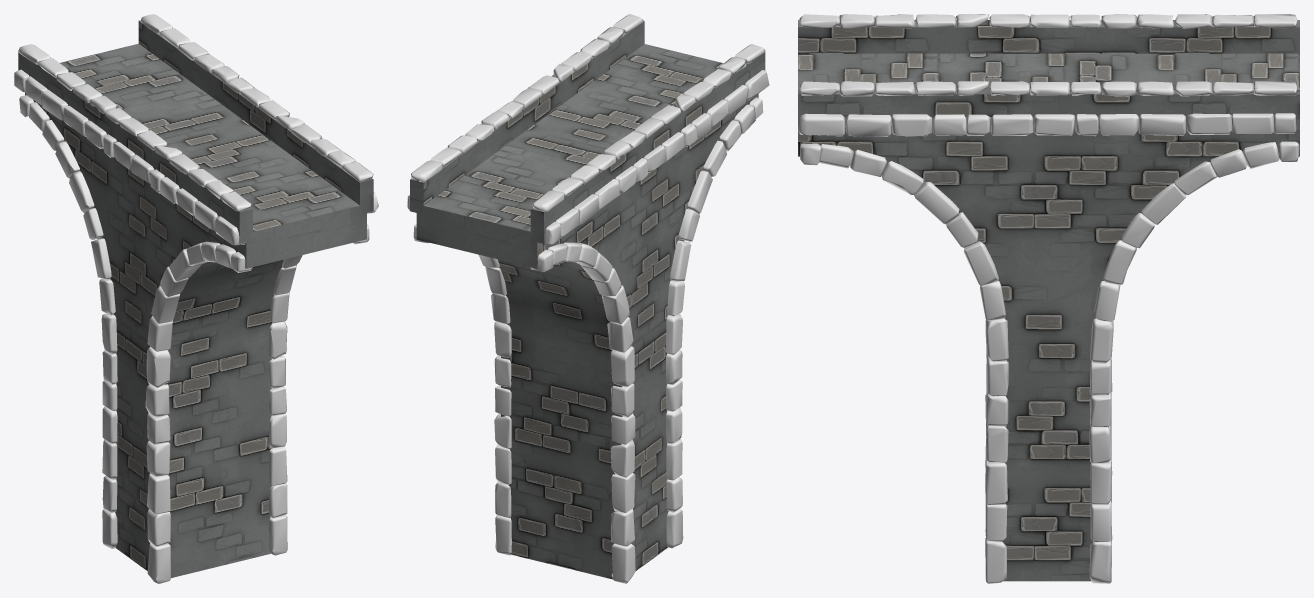
Rendered from SM_Bridge_Full.fbx.
3 views of the same model, side by side, from view 1: azimuth 30°, elevation 25°; view 2: azimuth 150°, elevation 25°; view 3: azimuth 270°, elevation 25° (orthographic). The views are drawn at different scales.
Visible parts, largest first — view 1: Bridge_Full_LOD0; view 2: Bridge_Full_LOD0; view 3: Bridge_Full_LOD0.
Part boxes in pixels (x1=…): Bridge_Full_LOD0: x1=14, y1=14, x2=378, y2=583; Bridge_Full_LOD0: x1=407, y1=14, x2=769, y2=583; Bridge_Full_LOD0: x1=798, y1=14, x2=1299, y2=583.
Size of what is drawn, in the model's own units: 5.44 by 15.37 by 14.01.
